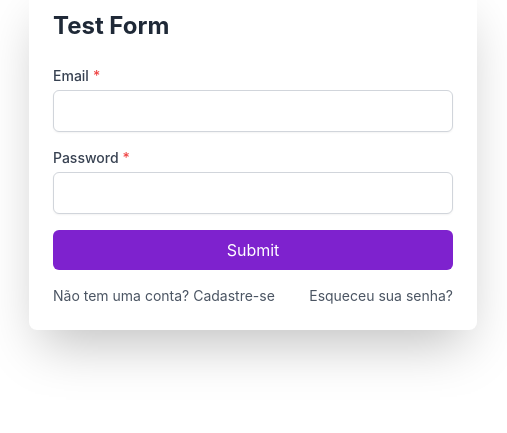
Test: ReusableForm Component › shows validation errors for empty required fields
Click the button "Submit": (253, 250) [53,230,453,270]
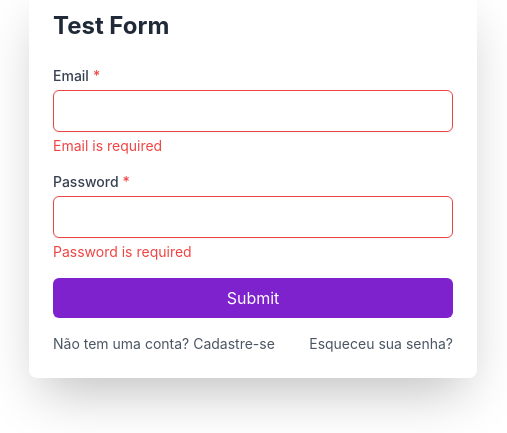
Expected: the text "Email is required" is shown, [53,137,162,154]
Expected: the text "Password is required" is shown, [53,243,192,260]
